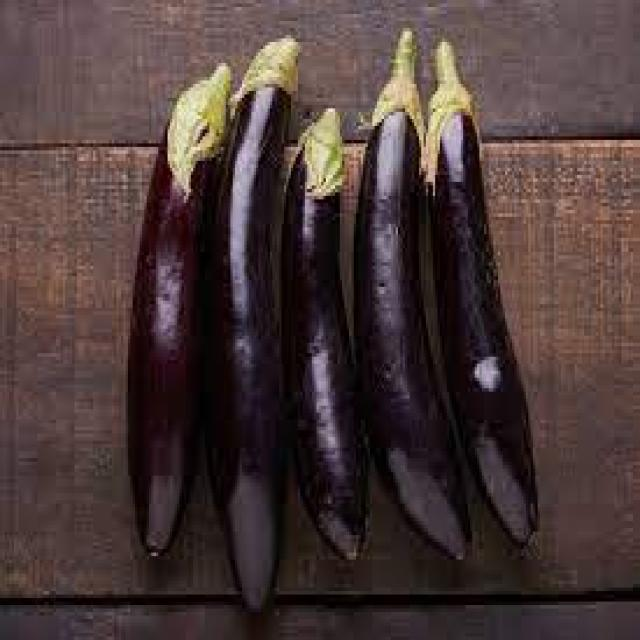eggplant: (421, 39, 542, 538), (359, 35, 470, 560), (126, 63, 230, 553), (284, 105, 363, 552), (230, 28, 282, 612)
